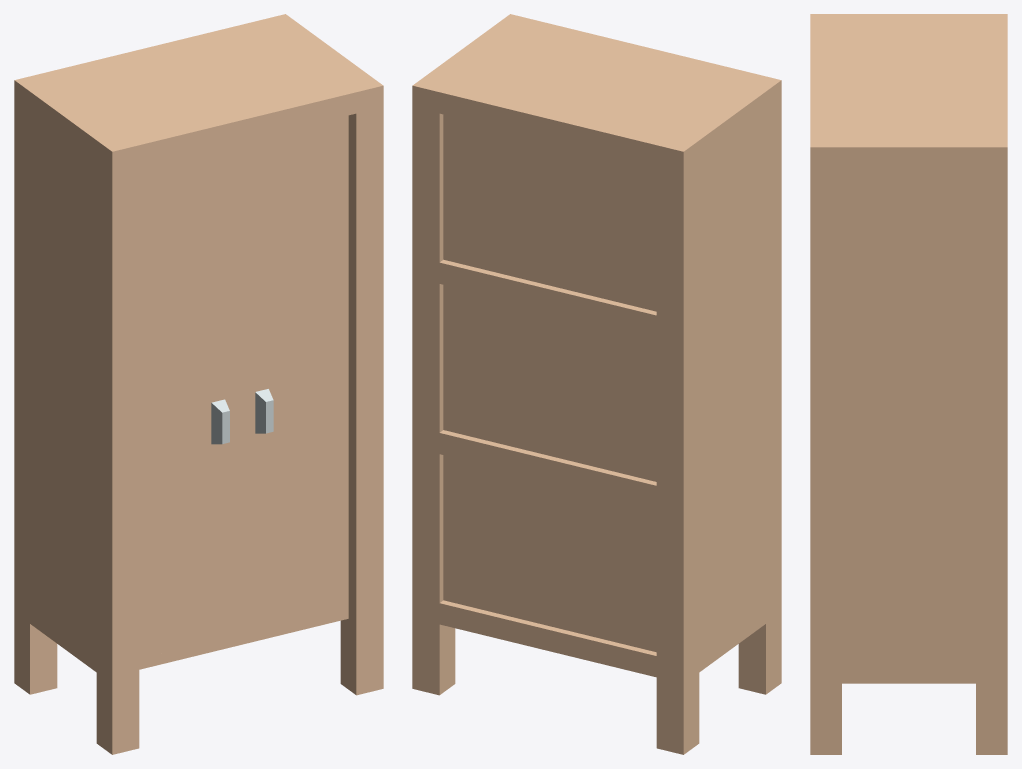
Rendered from bookcaseClosedDoors.glb.
3 views of the same model, side by side, from view 1: azimuth 30°, elevation 25°; view 2: azimuth 150°, elevation 25°; view 3: azimuth 270°, elevation 25° (orthographic).
Parts seen in each view (by area): view 1: bookcaseClosedDoors(Clone), doorRight, doorLeft; view 2: bookcaseClosedDoors(Clone); view 3: bookcaseClosedDoors(Clone).
Part boxes in pixels (x1,y1,x2,y2): bookcaseClosedDoors(Clone): [14, 14, 383, 754]; doorRight: [240, 115, 348, 634]; doorLeft: [139, 142, 239, 658]; bookcaseClosedDoors(Clone): [412, 14, 781, 754]; bookcaseClosedDoors(Clone): [810, 14, 1007, 754].
Bounding box in the file's own units: 0.4 × 0.85 × 0.25.
